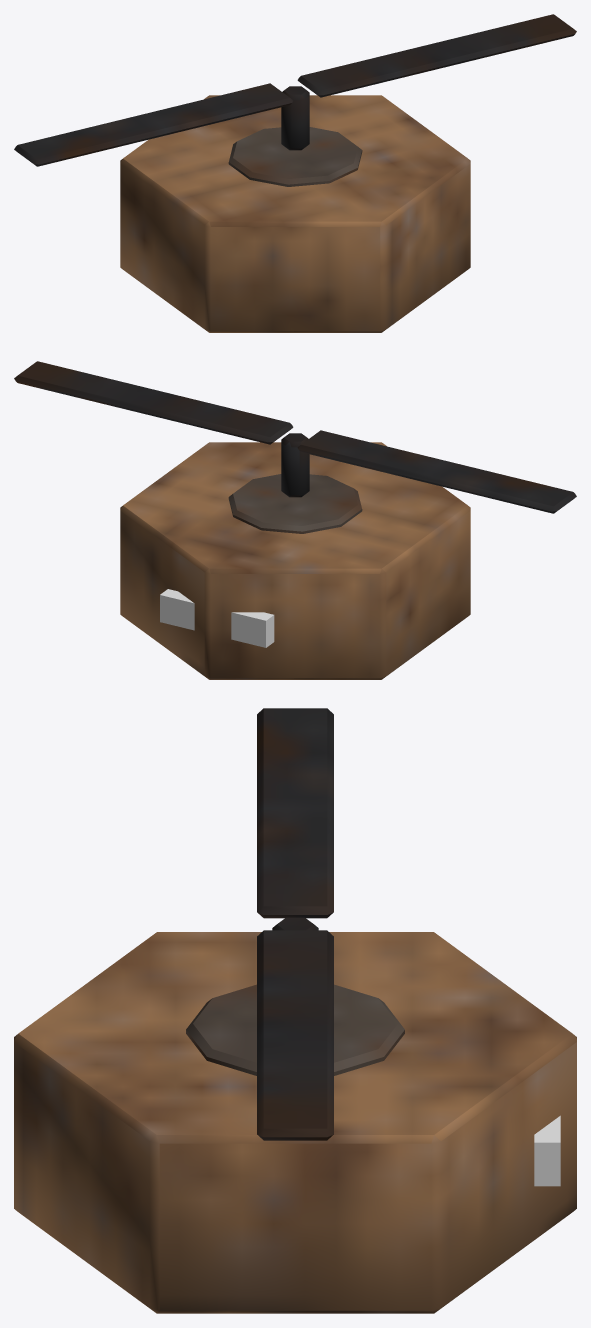
File: Ferrocefalos_Drone.fbx
3 renders of one model, top to bottom at view 1: azimuth 30°, elevation 25°; view 2: azimuth 150°, elevation 25°; view 3: azimuth 270°, elevation 25°, orthographic. The views are drawn at different scales.
Visible parts, largest first — view 1: Body, Rotor; view 2: Body, Rotor, BodyBrillo; view 3: Body, Rotor, BodyBrillo.
Boxes of the visible parts, left/top/right/bottom form: Body: left=120, top=95, right=470, bottom=332; Rotor: left=14, top=14, right=576, bottom=166; Body: left=120, top=442, right=470, bottom=679; Rotor: left=14, top=361, right=576, bottom=513; BodyBrillo: left=160, top=589, right=274, bottom=647; Body: left=14, top=932, right=576, bottom=1313; Rotor: left=257, top=708, right=333, bottom=1140; BodyBrillo: left=534, top=1115, right=560, bottom=1186.
Size of the model in its own units: 460 by 153 by 257.
